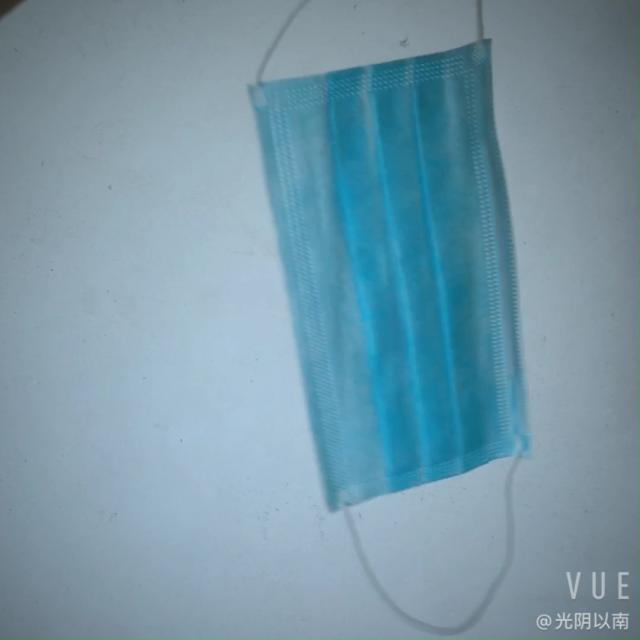face mask: (270, 21, 530, 516)
